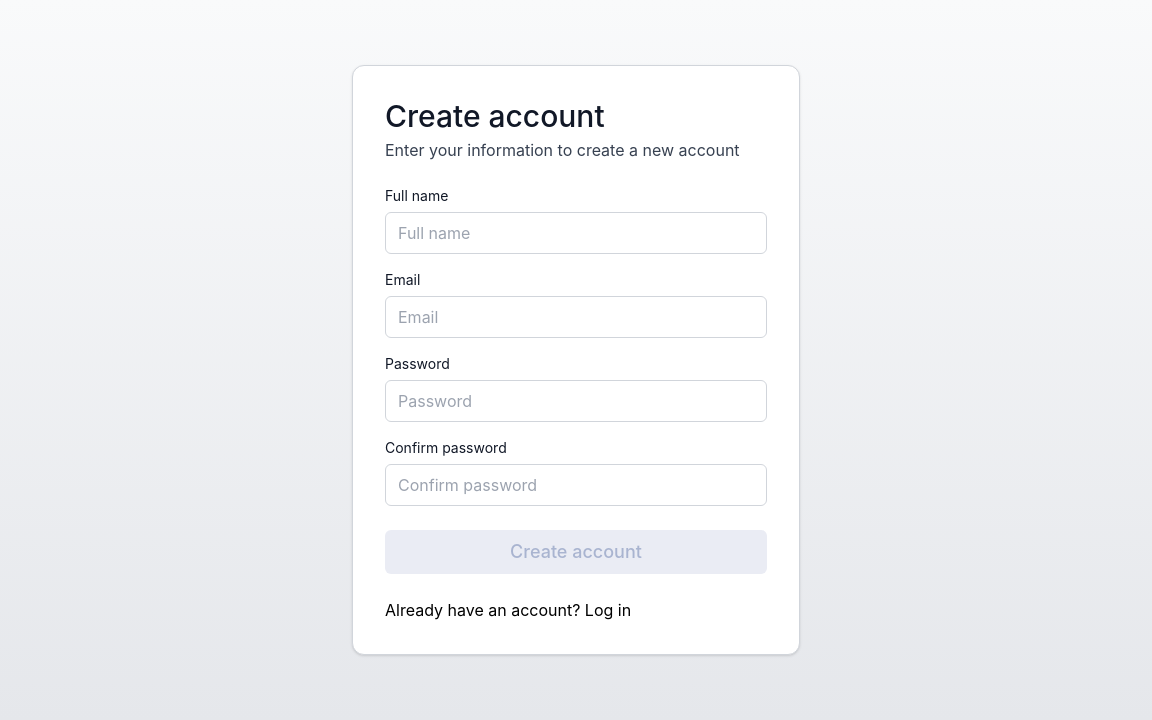
SignupForm › shows validation errors for empty fields once the user has started typing
Type "Jane Doe" into the field labelled "Full name" at [576, 233], box [385,212,767,254]
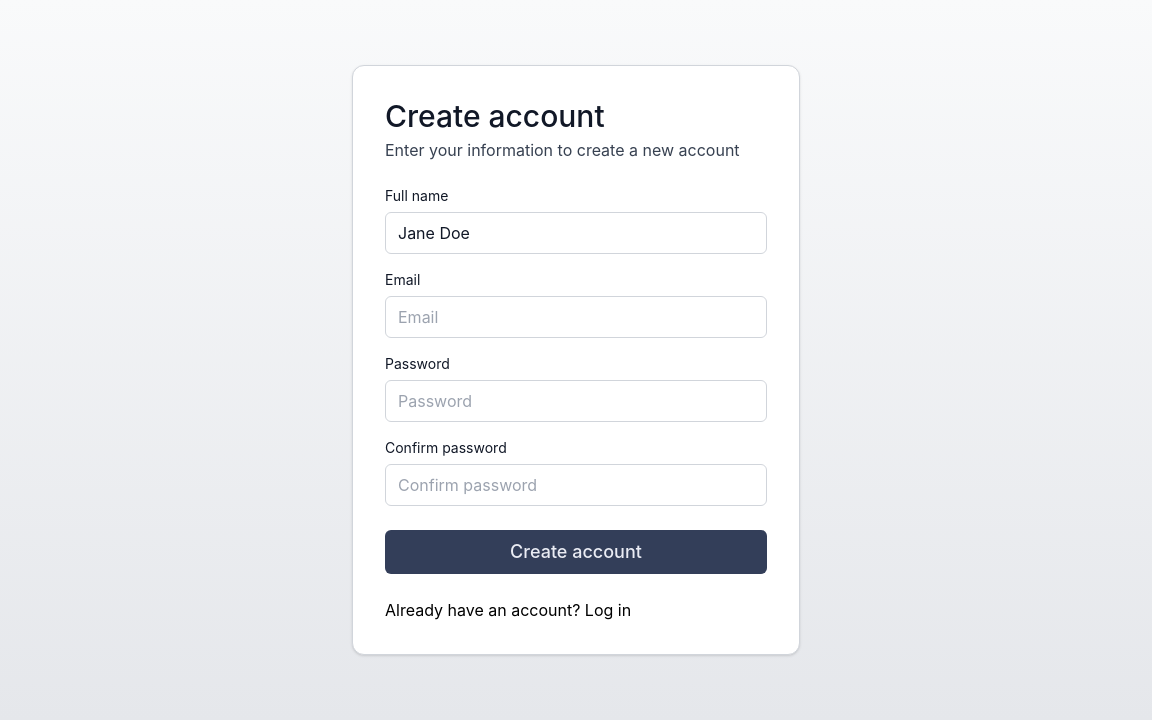
Click the button "Create account" at [576, 552], box [385,530,767,574]
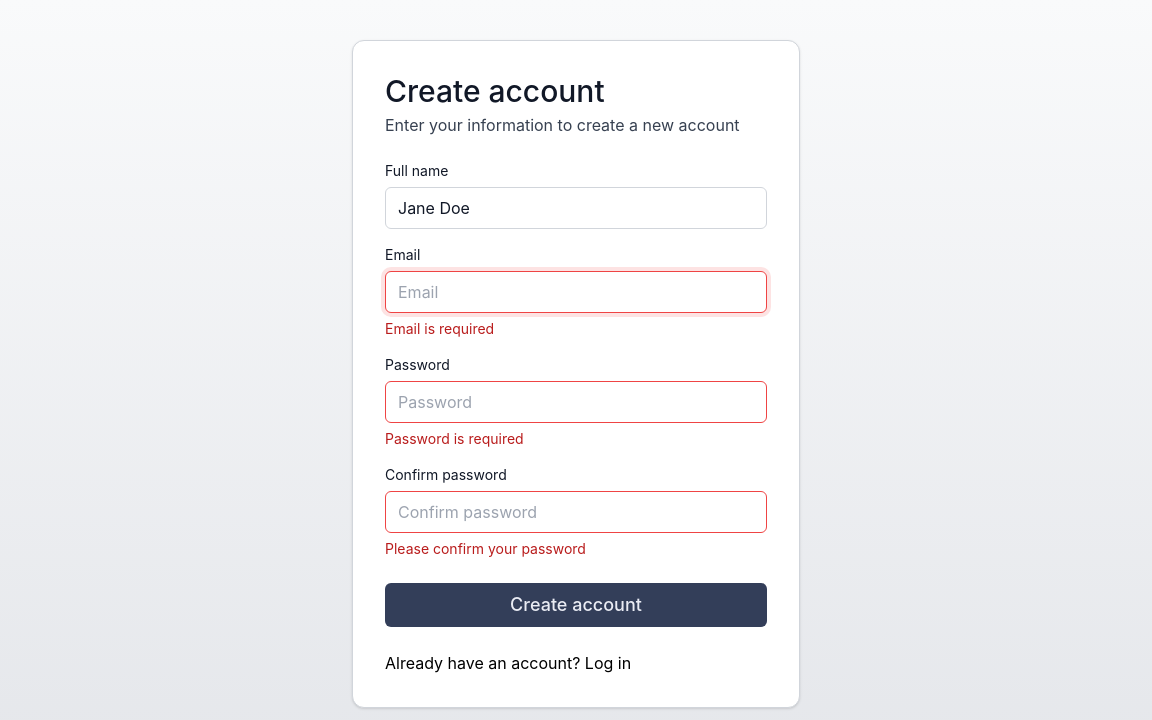
Now the text "Email is required" is shown, box [385,320,494,337]
